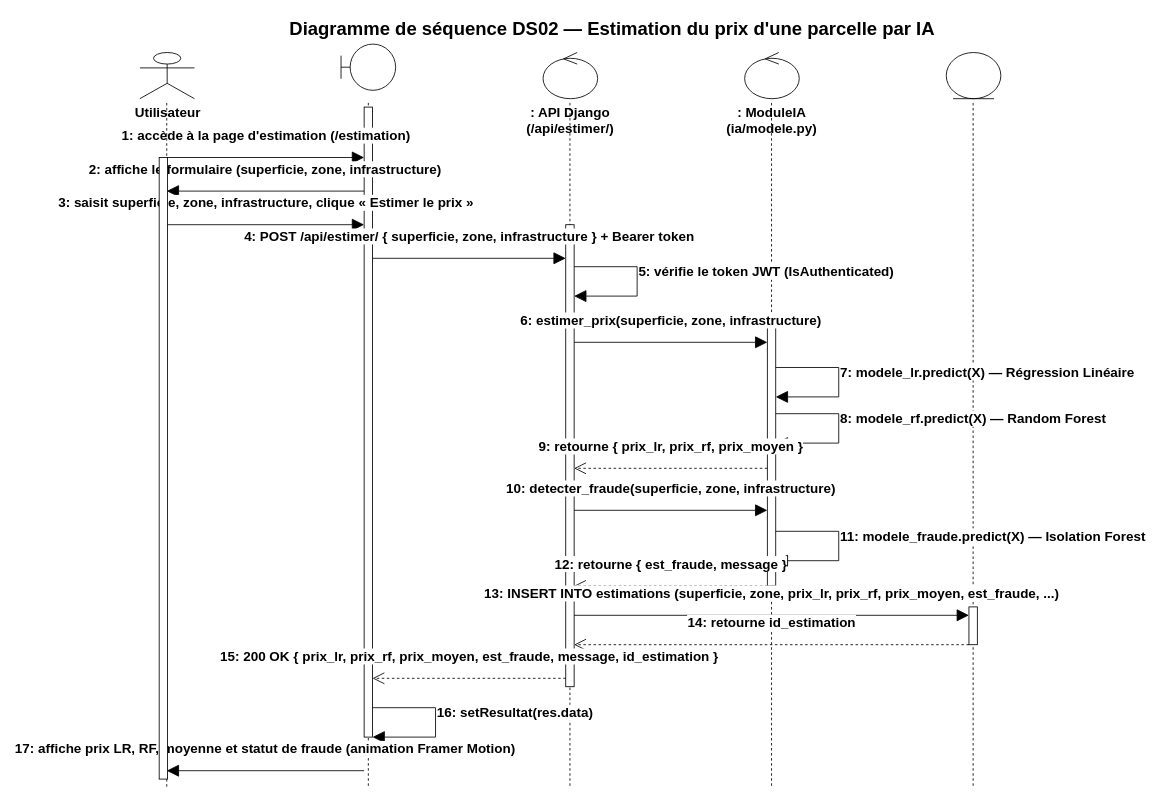
This 1160x803 diagram has some shape labels left out. The shapes that lost their labels are listed below. From the top down, each one's centre as x and y in pixels, then its label:
(368,66): : Frontend (Estimation.jsx)
(973,75): : Base de données (table estimations)
